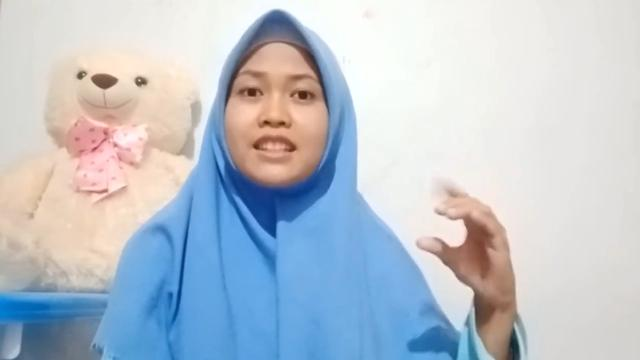C: (416, 192, 516, 304)
